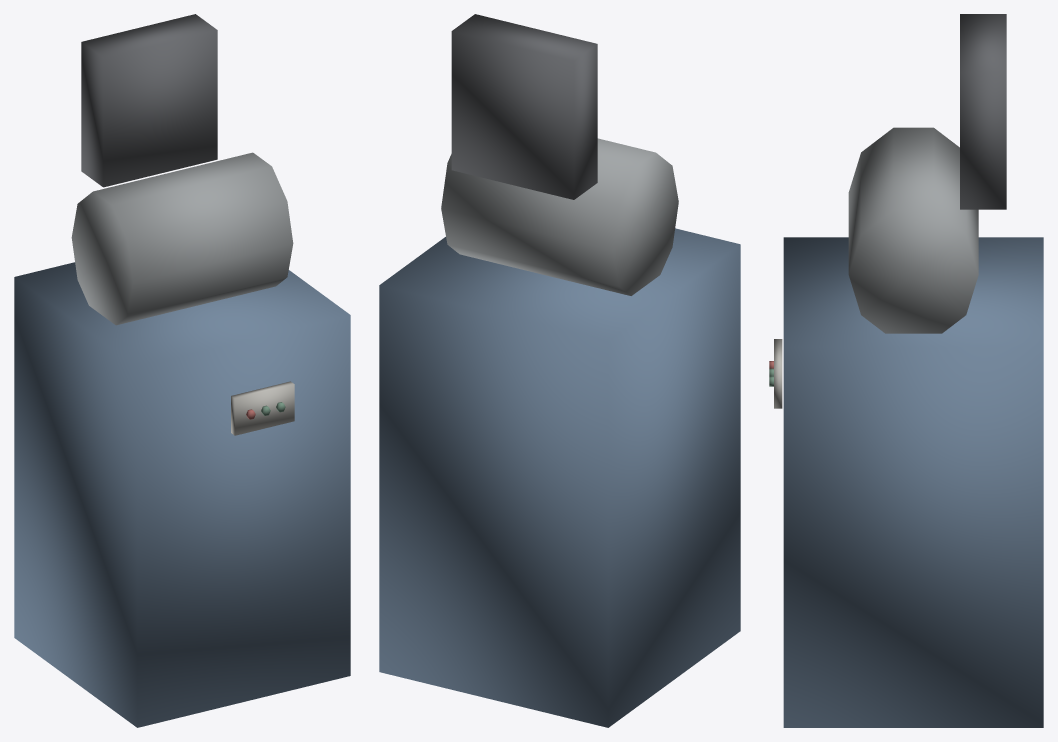
Rendered from tire_changer__tall.glb.
3 renders of one model, left to right at view 1: azimuth 30°, elevation 25°; view 2: azimuth 150°, elevation 25°; view 3: azimuth 270°, elevation 25°, orthographic. The views are drawn at different scales.
Parts seen in each view (by area): view 1: world; view 2: world; view 3: world.
Boxes of the visible parts, x1,y1,x2,y2 form: world: (14,14,350,727); world: (379,14,740,727); world: (769,14,1043,727).
Size of the model in its own units: 0.56 by 1.5 by 0.591.
